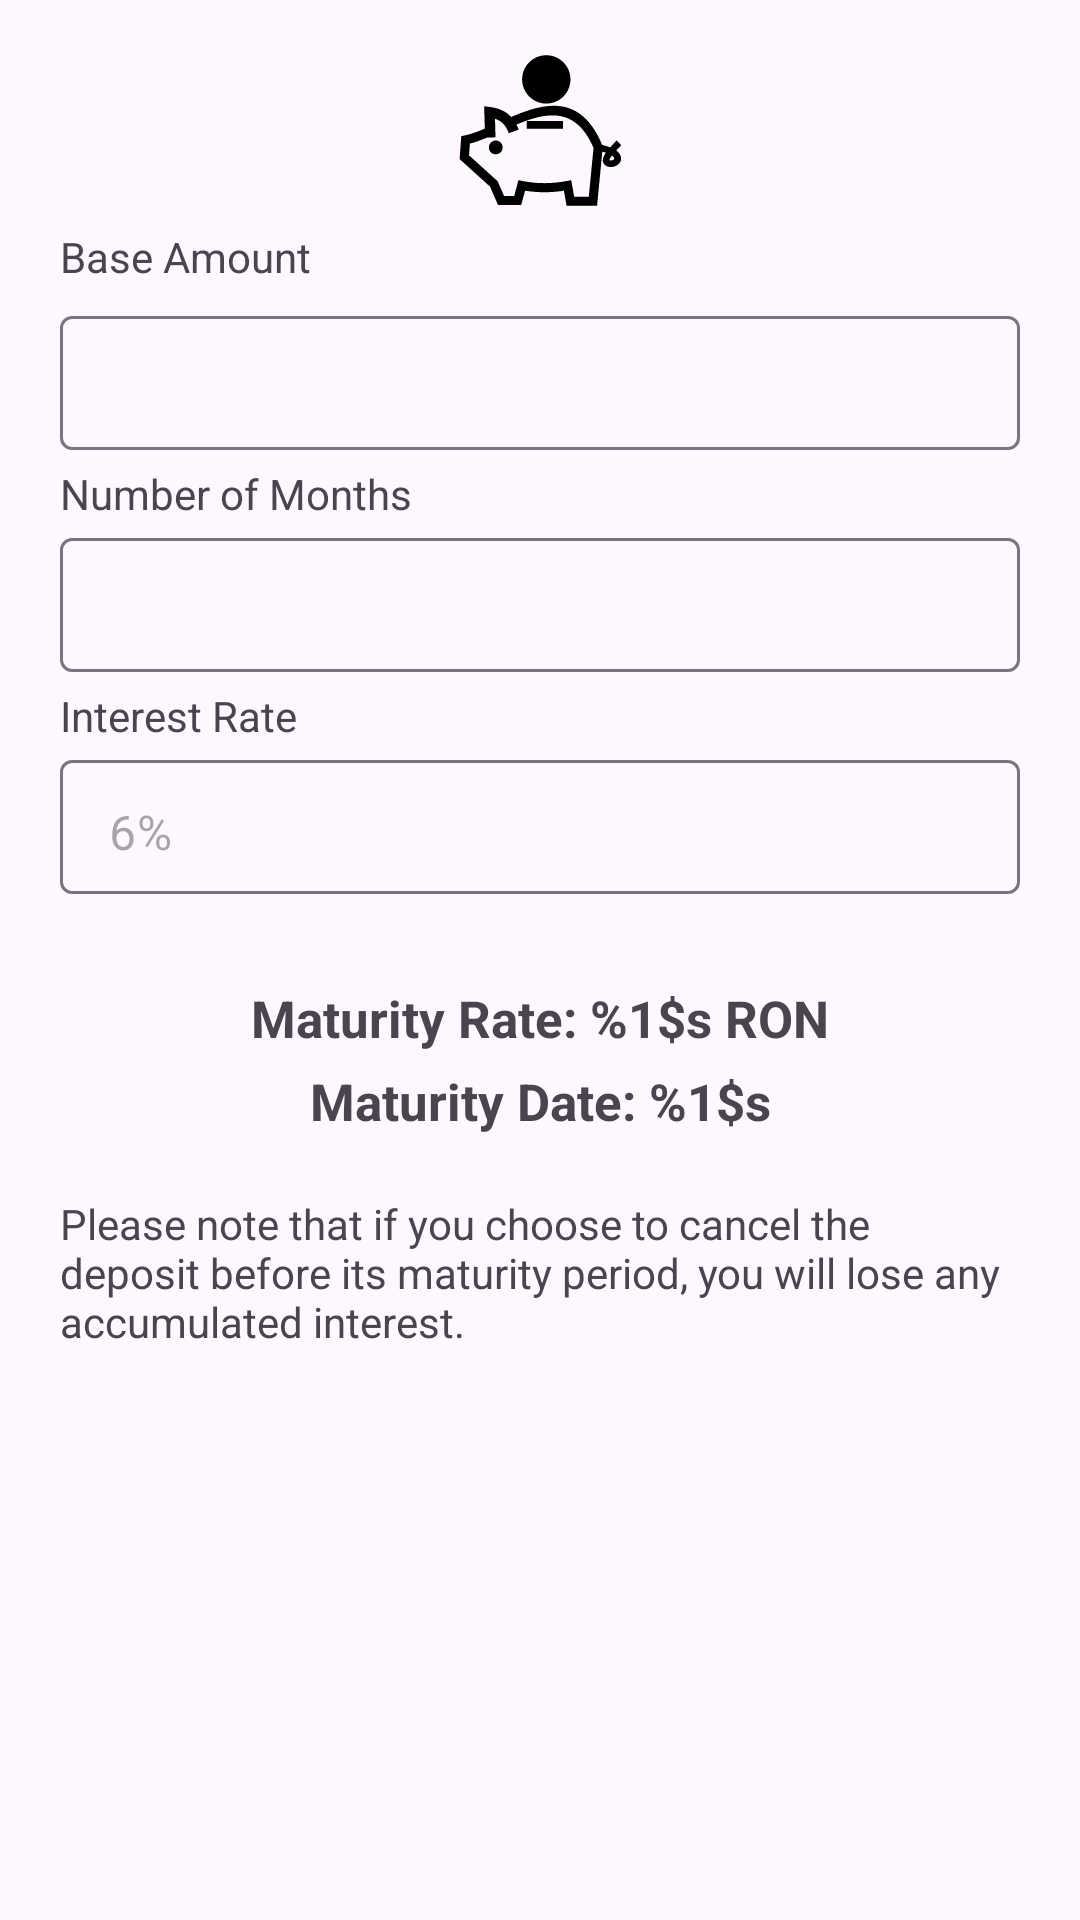

Named icons in this screenshot (1080 × 1920) and their centers, (x,y):
deposit: (540,130)
